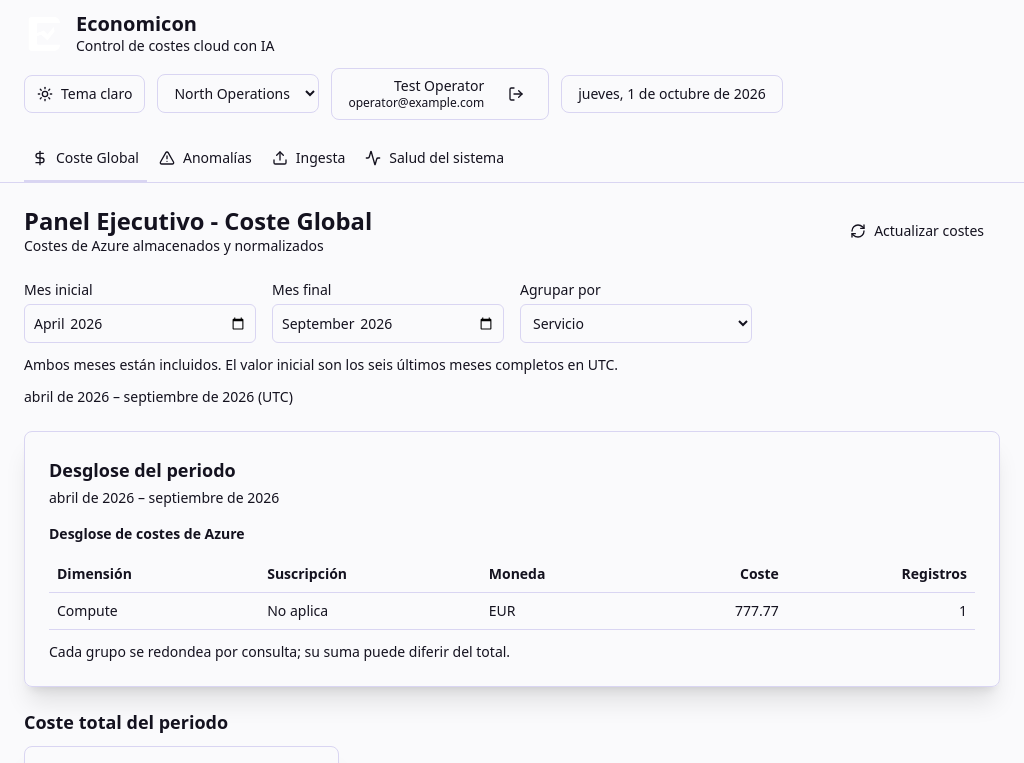
JUP-055: intervalos mensuales inclusivos › un único mes se consulta una vez y carece de comparación
The width and height of the screenshot is (1024, 763).
Check: the heading "Panel Ejecutivo - Coste Global" is shown, box [24,206,372,236]
Replace the text in the field labelled "Mes inicial" with "2026-06" at (140, 324), box [24,304,256,343]
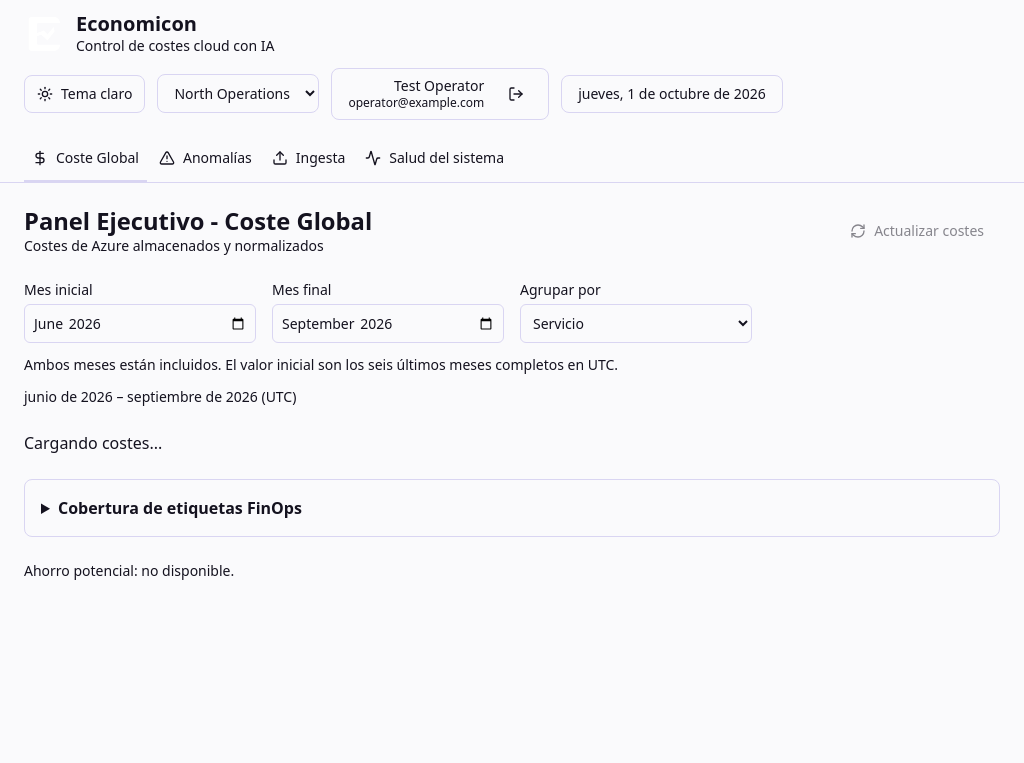
Replace the text in the field labelled "Mes final" with "2026-06" at (388, 324), box [272,304,504,343]
(page scrolled)
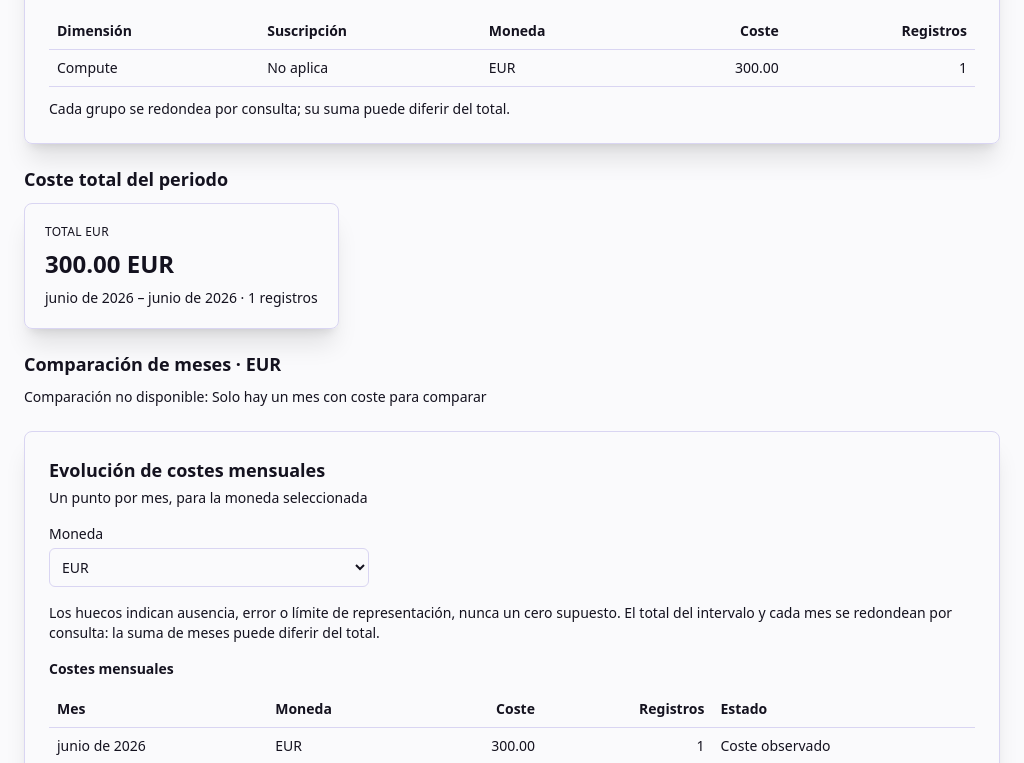
Check: the element "Comparación de meses" shows "Solo hay un mes con coste para comparar", box [212,387,487,406]
